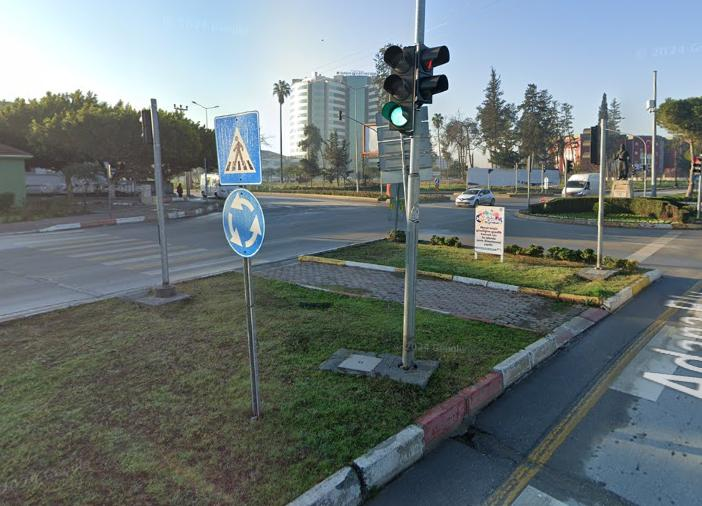crossroads: (222, 189, 265, 258)
greenlight: (386, 46, 413, 133)
